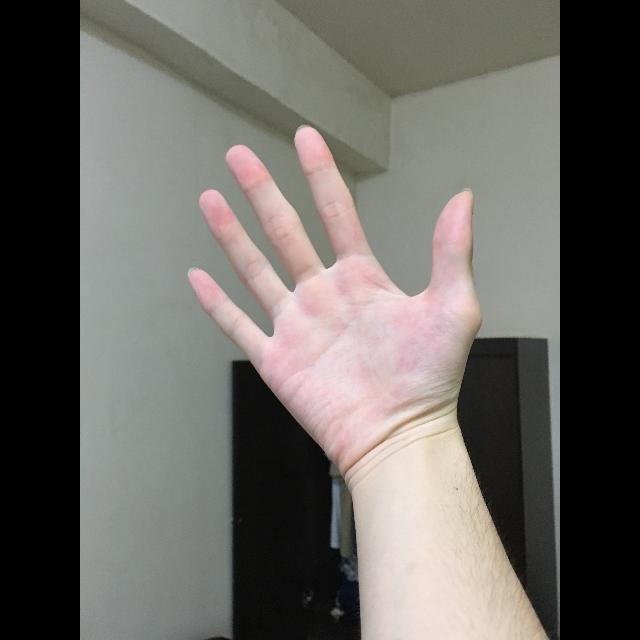bare_hand: (173, 125, 487, 498)
